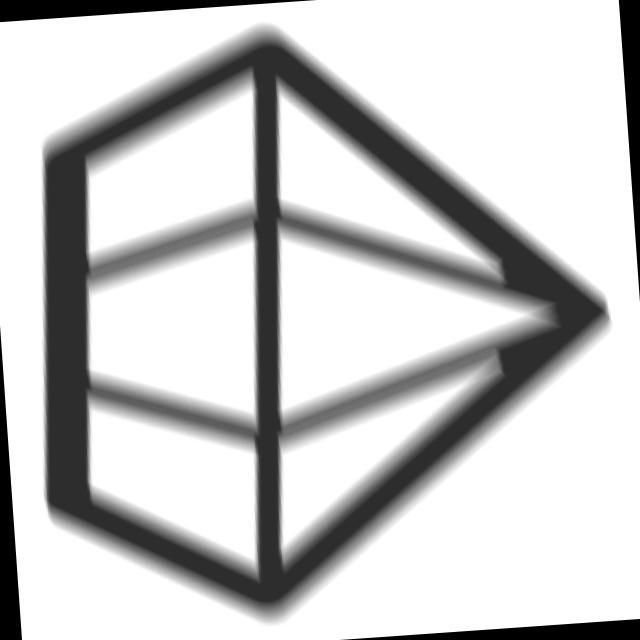diamond: (2, 1, 640, 640)
